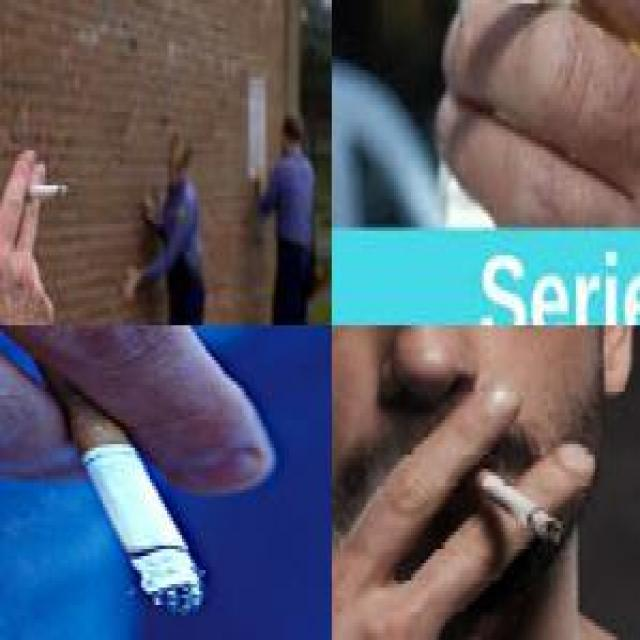cigarette: (64, 395, 206, 616), (426, 0, 632, 49), (471, 464, 559, 540), (20, 184, 70, 202)
